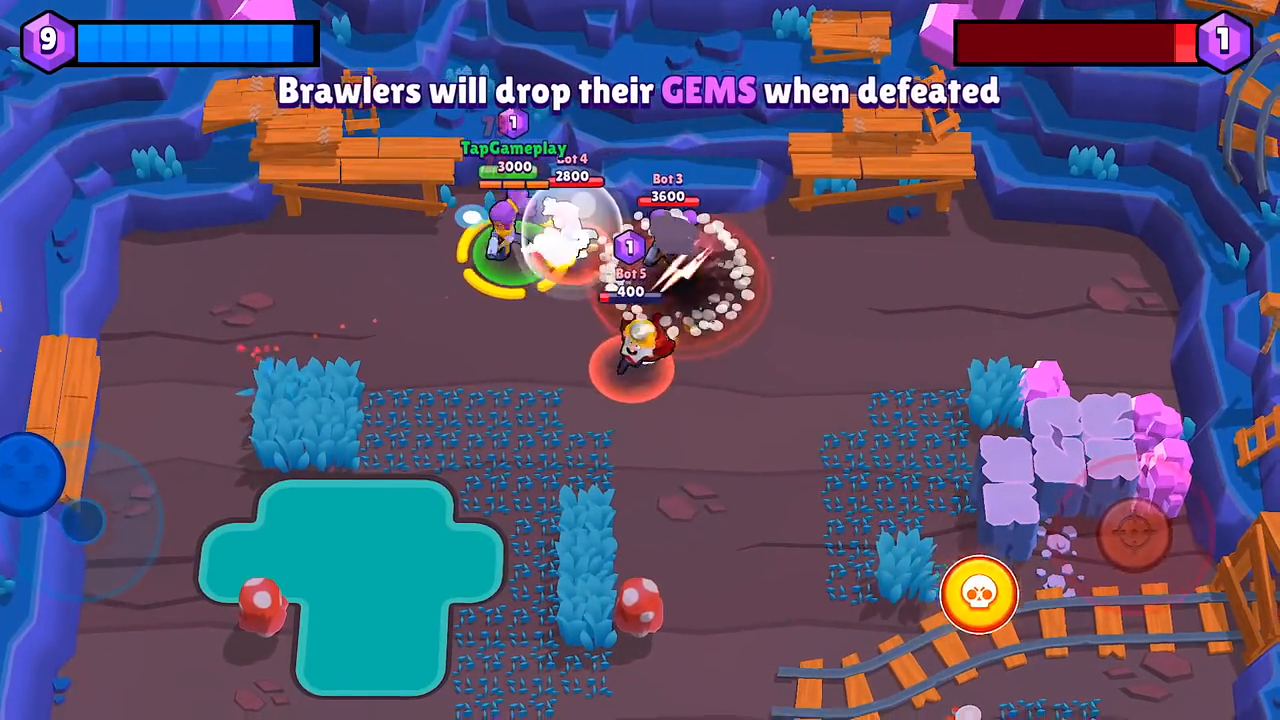move_stick: (1, 436, 63, 502)
red: (588, 283, 674, 395), (636, 186, 711, 269), (544, 171, 605, 273)
